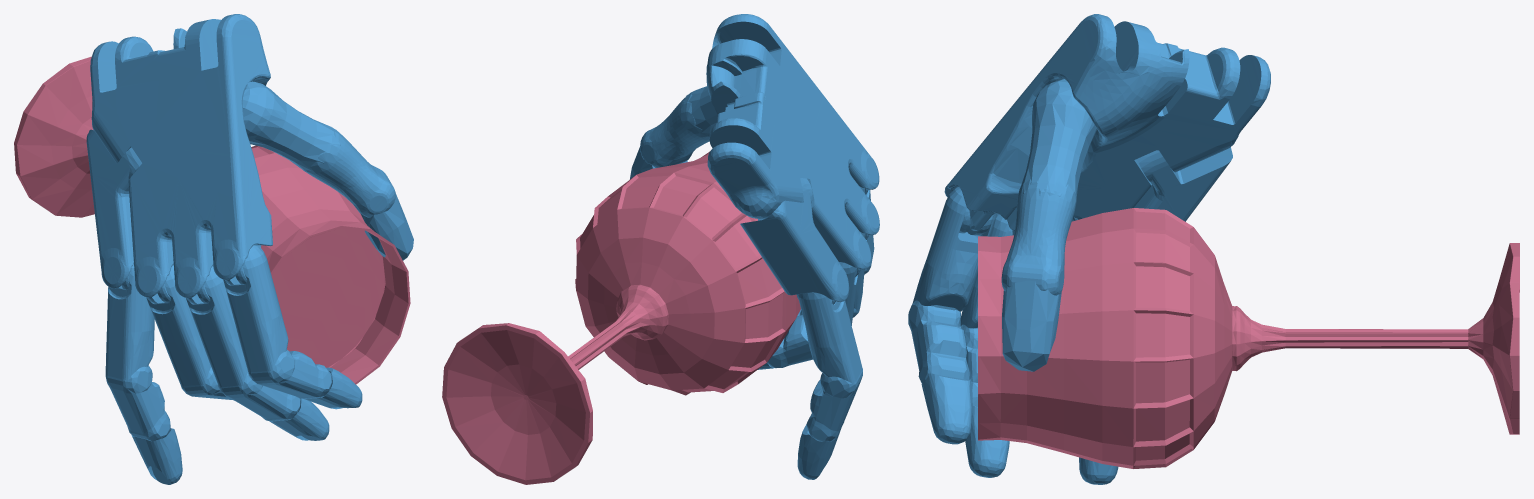
The picture shows the model from 3 angles, left to right: view 1: azimuth 30°, elevation 25°; view 2: azimuth 150°, elevation 25°; view 3: azimuth 270°, elevation 25°; orthographic projection. The views are drawn at different scales.
Visible parts, largest first — view 1: 6; view 2: 6; view 3: 6.
Boxes of the visible parts, left/top/right/bottom form: 6: left=14, top=14, right=413, bottom=484; 6: left=442, top=14, right=879, bottom=484; 6: left=908, top=14, right=1519, bottom=484.
Size of the model in its own units: 0.1282 by 0.2085 by 0.2293.
